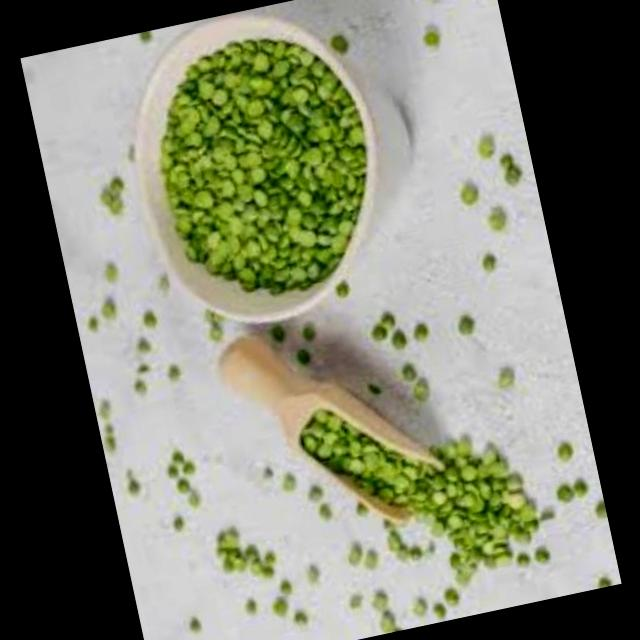peas: (137, 18, 395, 316), (297, 344, 548, 616), (438, 112, 552, 292), (165, 492, 299, 640), (46, 173, 154, 334), (532, 431, 620, 595), (240, 274, 372, 376), (101, 274, 188, 406), (370, 287, 468, 399), (85, 366, 143, 514), (377, 0, 505, 66), (354, 584, 478, 639), (260, 456, 328, 538), (183, 291, 240, 360), (148, 435, 196, 509), (442, 306, 483, 359), (288, 542, 332, 587), (316, 24, 360, 66), (486, 352, 526, 398), (128, 28, 162, 52)
